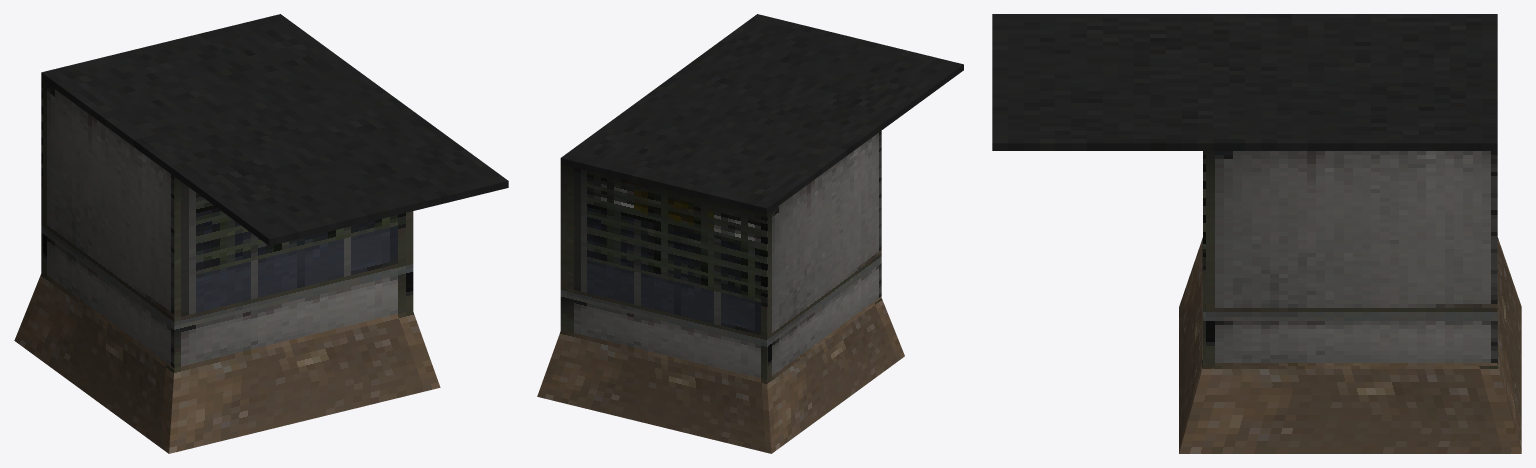
Rendered from env_guard_post_small.glb.
3 views of the same model, side by side, from view 1: azimuth 30°, elevation 25°; view 2: azimuth 150°, elevation 25°; view 3: azimuth 270°, elevation 25° (orthographic). The views are drawn at different scales.
Parts seen in each view (by area): view 1: env_guard_post_small; view 2: env_guard_post_small; view 3: env_guard_post_small.
Part boxes in pixels (<box>): env_guard_post_small: <box>14,14,508,453</box>; env_guard_post_small: <box>537,14,963,453</box>; env_guard_post_small: <box>992,14,1521,453</box>.
Size of the model in its own units: 0.00899 by 0.00861 by 0.0137.
Materials: 2 (2 with a texture image).
